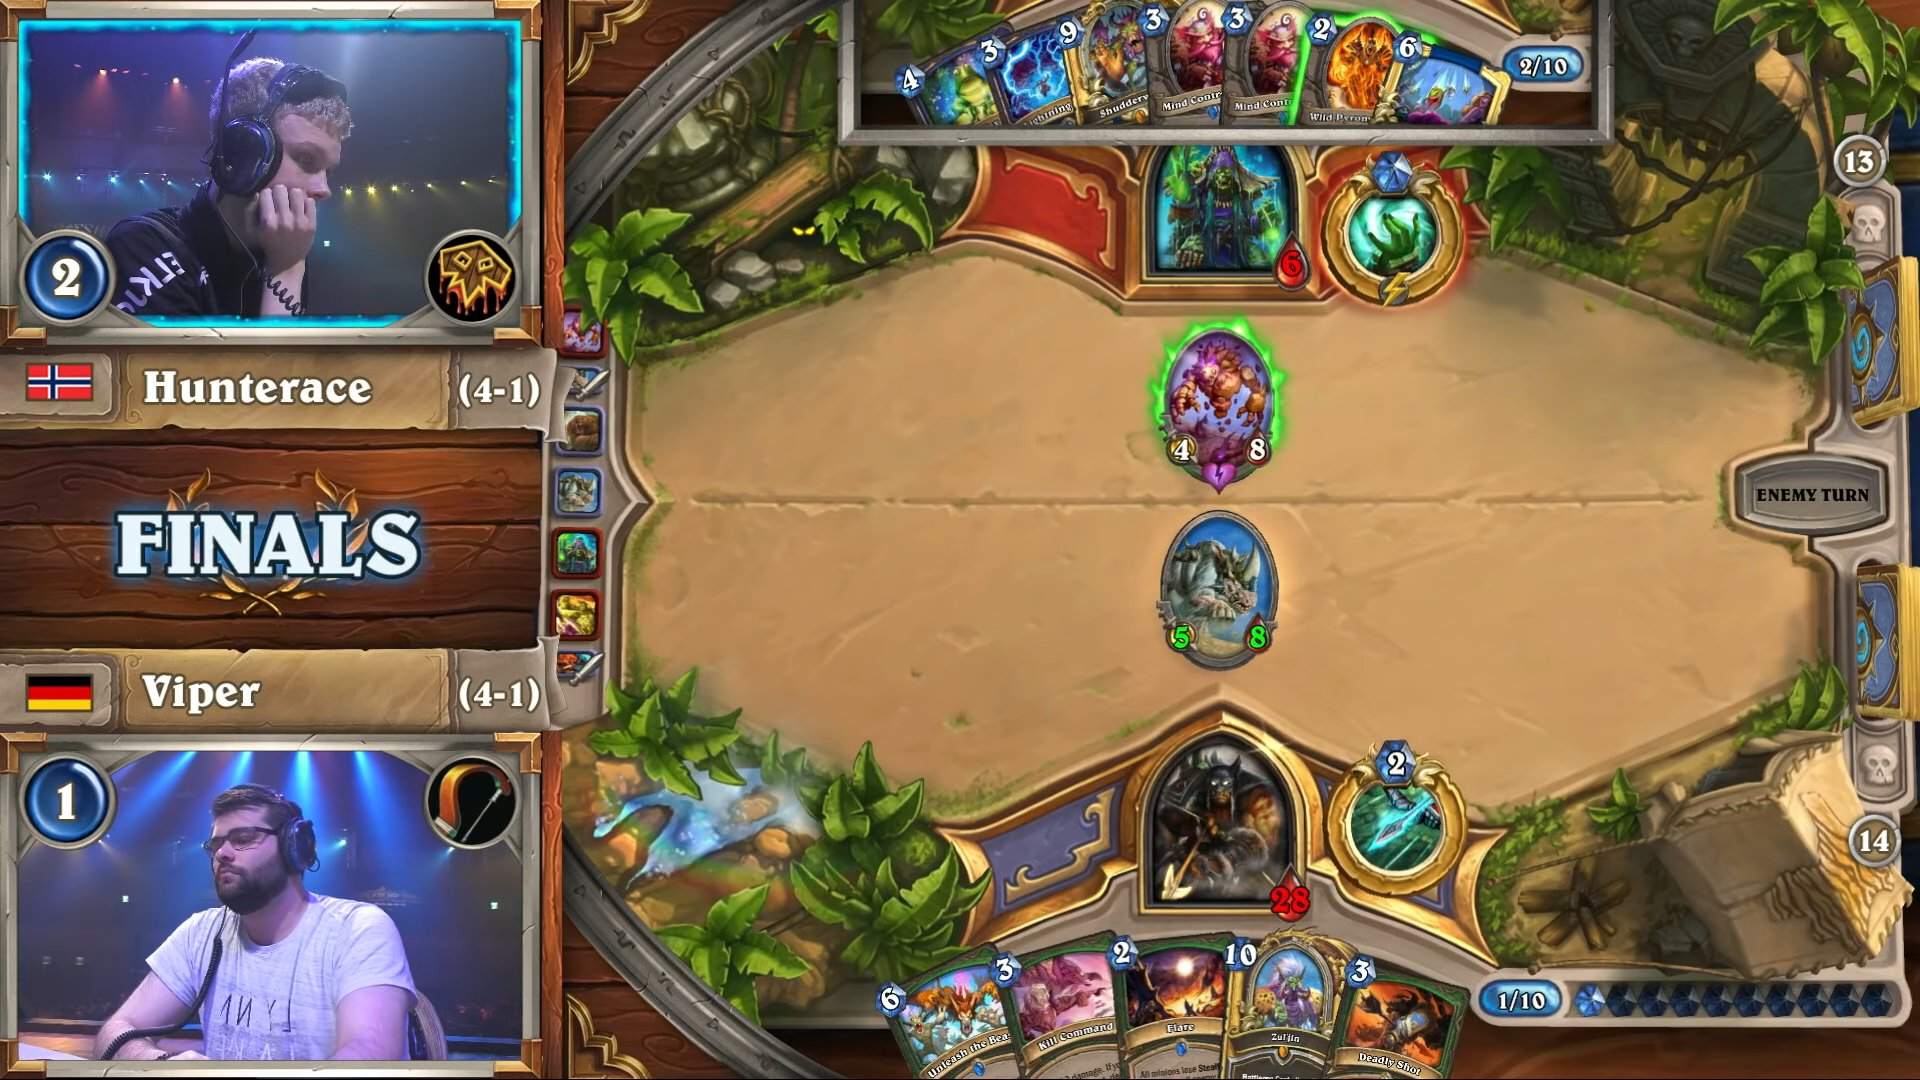card: (990, 927, 1121, 1080), (1323, 953, 1470, 1080), (1112, 926, 1230, 1080), (1218, 935, 1342, 1080), (873, 942, 997, 1080), (1369, 29, 1513, 129), (1287, 15, 1396, 129), (1141, 1, 1229, 129), (1056, 1, 1145, 128), (1221, 1, 1309, 128), (981, 17, 1064, 127), (897, 41, 986, 127)
